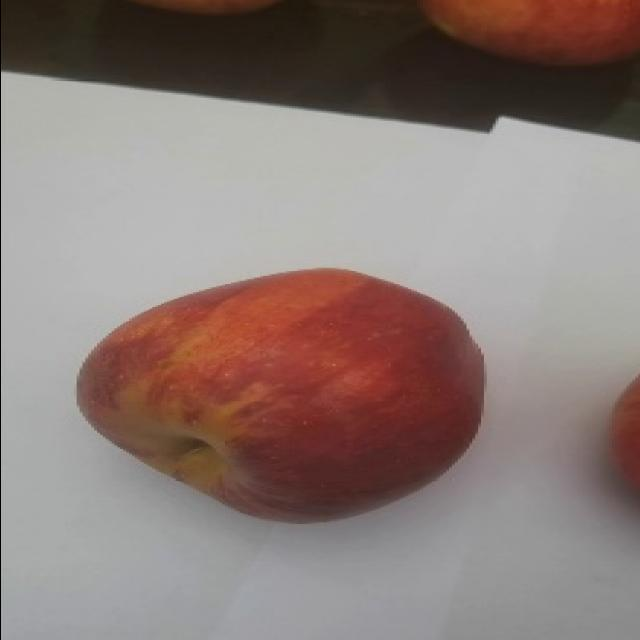Apple: (75, 266, 486, 524), (417, 0, 639, 67), (609, 371, 639, 490)
